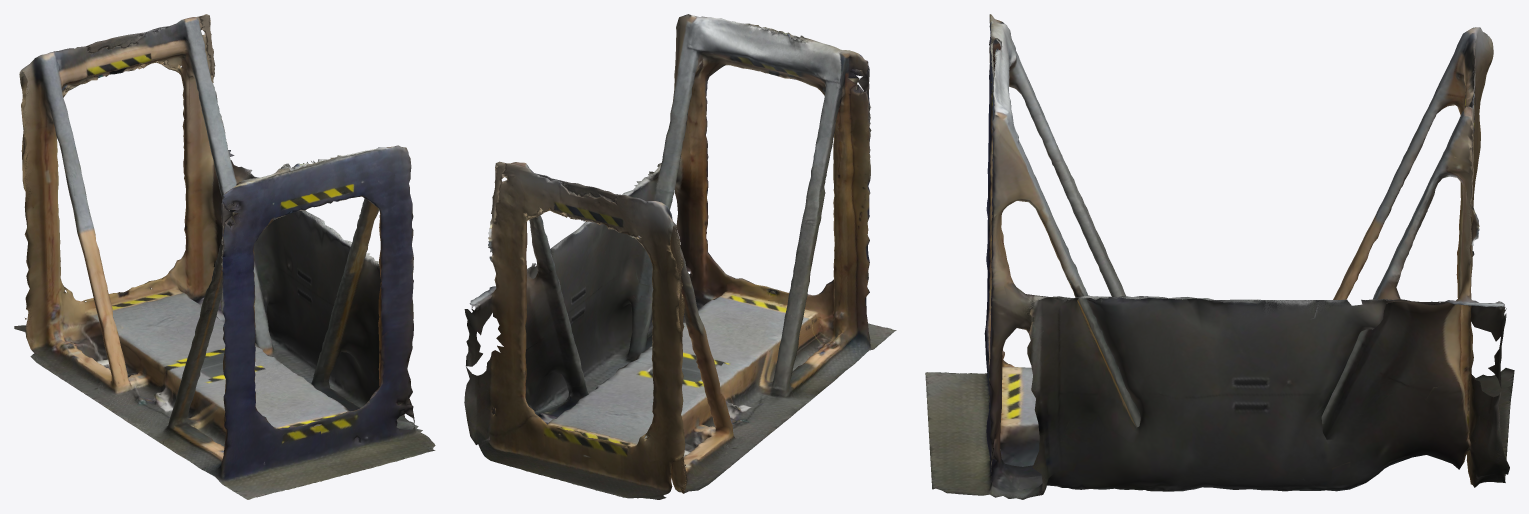
Rendered from Platform.fbx.
3 renders of one model, left to right at view 1: azimuth 30°, elevation 25°; view 2: azimuth 150°, elevation 25°; view 3: azimuth 270°, elevation 25°, orthographic. The views are drawn at different scales.
Parts seen in each view (by area): view 1: Catwalk; view 2: Catwalk; view 3: Catwalk.
Part boxes in pixels (x1,y1,x2,y2): Catwalk: (14,14,435,499); Catwalk: (464,14,896,499); Catwalk: (925,14,1514,499).
Size of the model in its own units: 142 by 188 by 263.
Materials: 1 (1 with a texture image).
